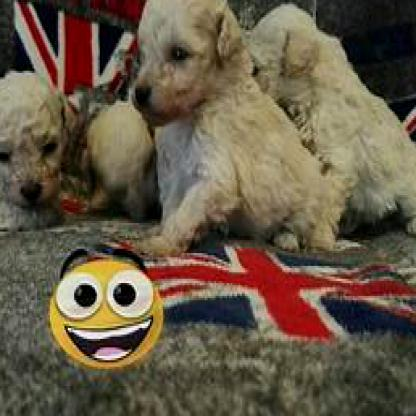dog: (128, 0, 344, 258), (246, 4, 415, 237), (2, 69, 76, 238)
